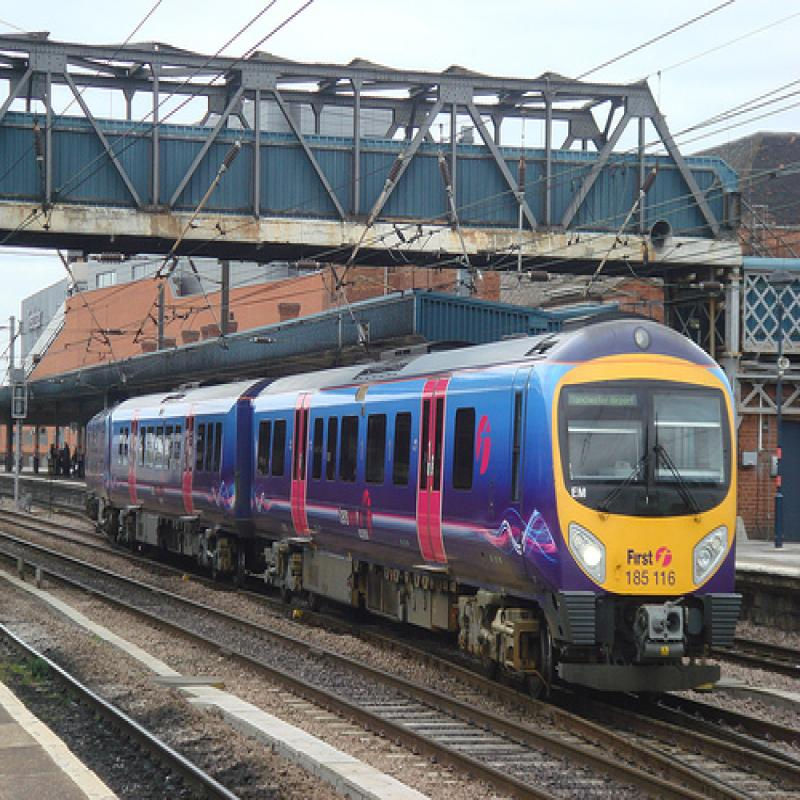train: (86, 319, 745, 696)
